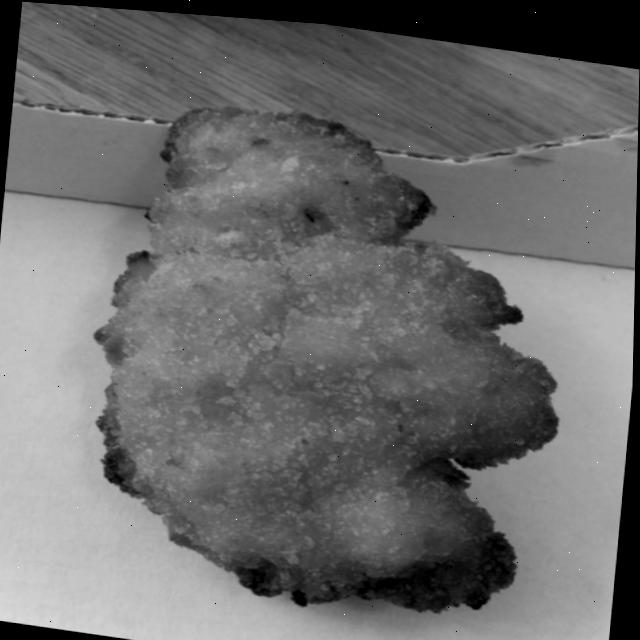鸡肉料理 含炸鸡: (50, 37, 601, 640)
